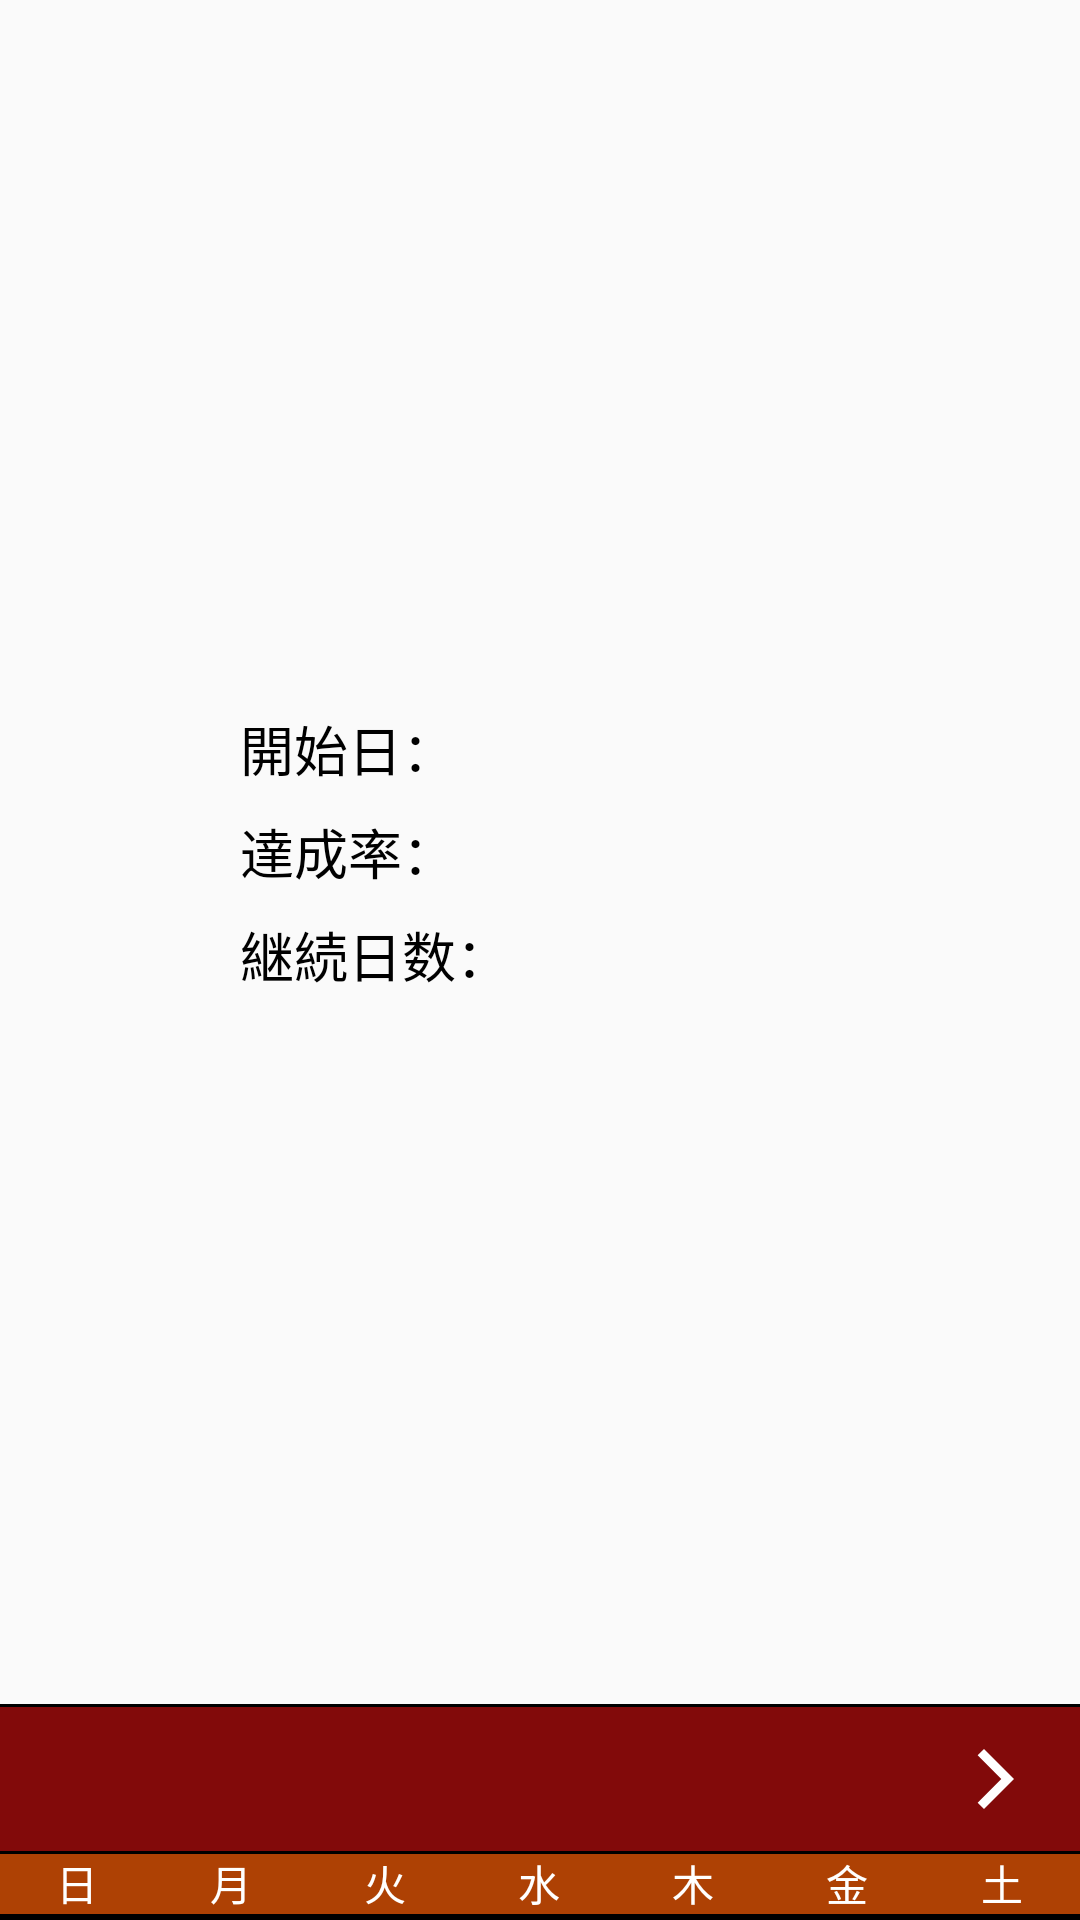

Icon bounding boxes for this 1080x1920 phone screenshot, format (x1,y1,x2,y2):
right arrow: (977,1749,1014,1809)
